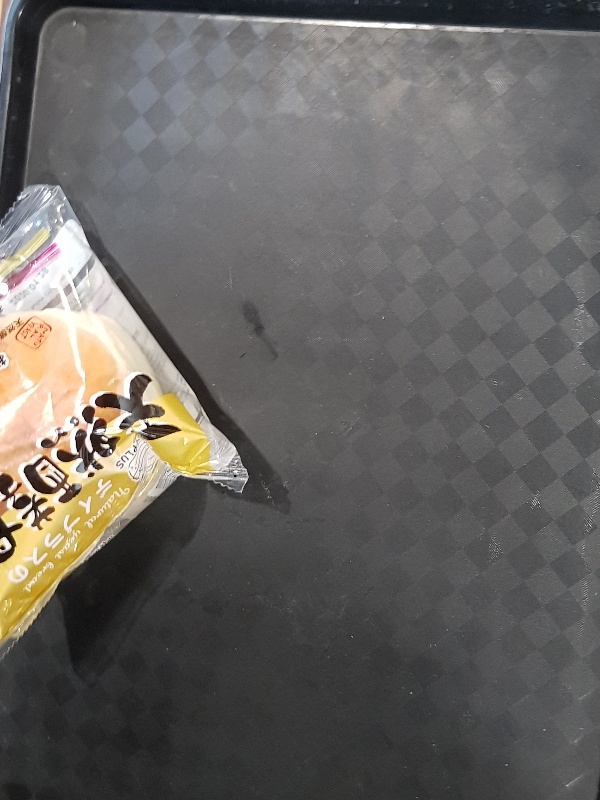Dayplus Red Bean: (1, 184, 247, 645)
